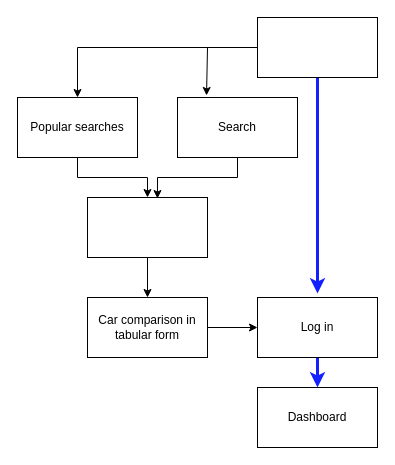
This 395x465 diagram has some shape labels left out. Each missing label, with the box of its shape:
Home page: (256, 16, 378, 78)
Select car: (86, 196, 208, 258)
